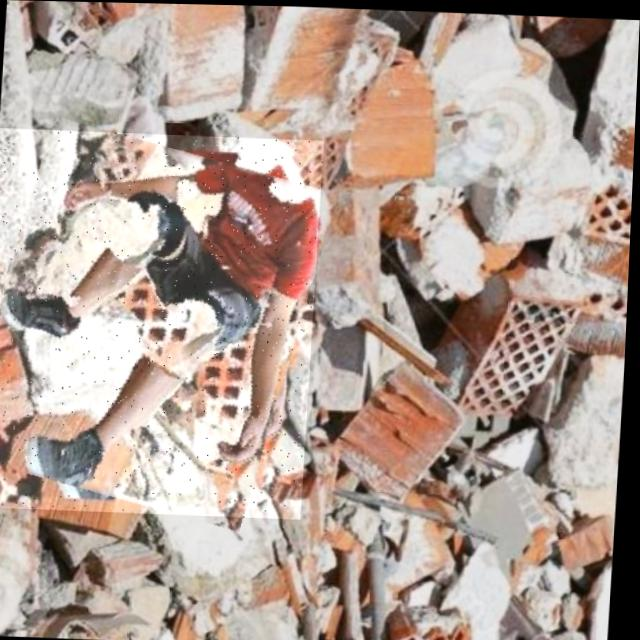Person in Rubble: (0, 127, 324, 518)
